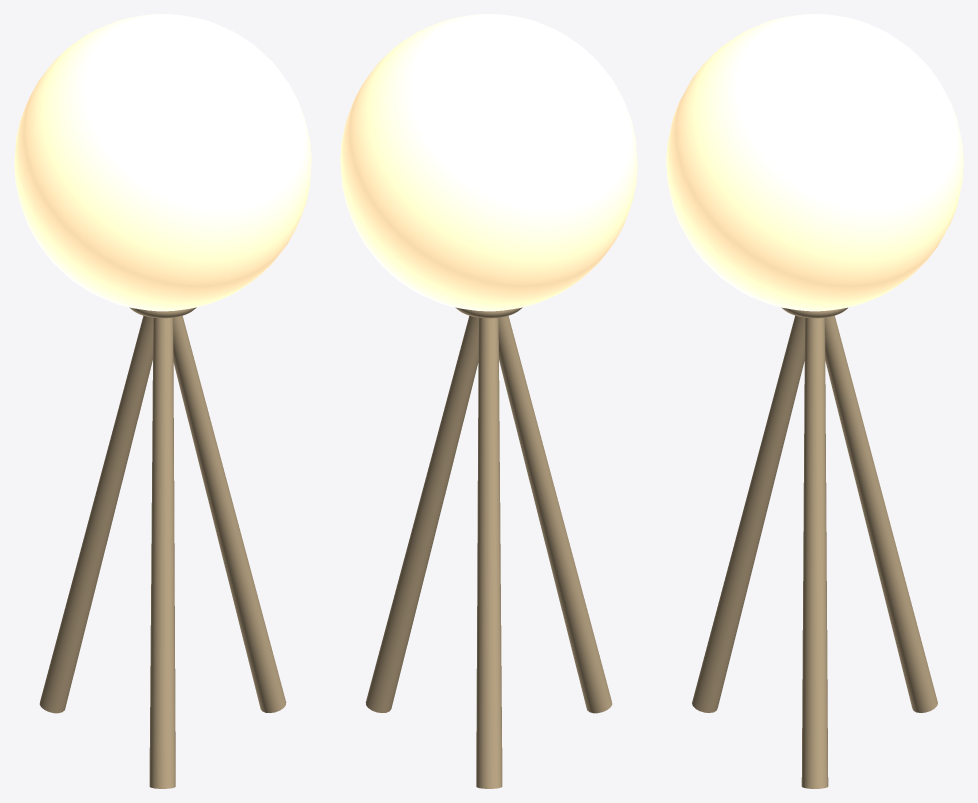
File: tripod.glb
3 renders of one model, left to right at view 1: azimuth 30°, elevation 25°; view 2: azimuth 150°, elevation 25°; view 3: azimuth 270°, elevation 25°, orthographic.
Parts seen in each view (by area): view 1: Globe, Leg 2, Leg 1, Leg 3; view 2: Globe, Leg 3, Leg 1, Leg 2; view 3: Globe, Leg 1, Leg 2, Leg 3.
Boxes of the visible parts, <box> form: Globe: <box>14,14,311,311</box>; Leg 2: <box>149,317,175,788</box>; Leg 1: <box>173,315,286,712</box>; Leg 3: <box>39,315,153,713</box>; Globe: <box>340,14,637,311</box>; Leg 3: <box>476,317,502,788</box>; Leg 1: <box>365,315,478,712</box>; Leg 2: <box>498,315,612,713</box>; Globe: <box>666,14,963,311</box>; Leg 1: <box>801,317,828,788</box>; Leg 2: <box>692,315,804,712</box>; Leg 3: <box>825,315,937,712</box>.
Size of the model in its own units: 0.18 by 0.4723 by 0.18.
